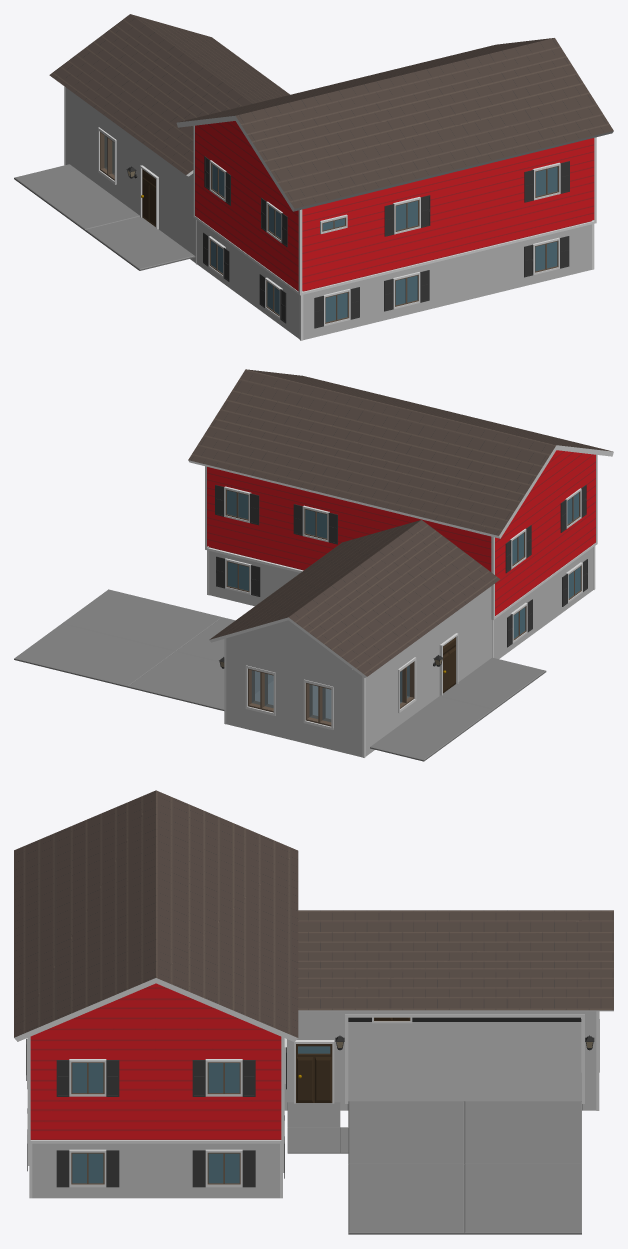
File: LargeHouse_Red.fbx
3 views of the same model, one above another, from view 1: azimuth 30°, elevation 25°; view 2: azimuth 150°, elevation 25°; view 3: azimuth 270°, elevation 25° (orthographic). The views are drawn at different scales.
Parts seen in each view (by area): view 1: LargeHouse_Red; view 2: LargeHouse_Red; view 3: LargeHouse_Red.
Part boxes in pixels (x1,y1,x2,y2): LargeHouse_Red: (14, 14, 613, 340); LargeHouse_Red: (14, 369, 613, 761); LargeHouse_Red: (14, 790, 613, 1234).
Bounding box in the file's own units: 63.8 × 27.36 × 65.15.
